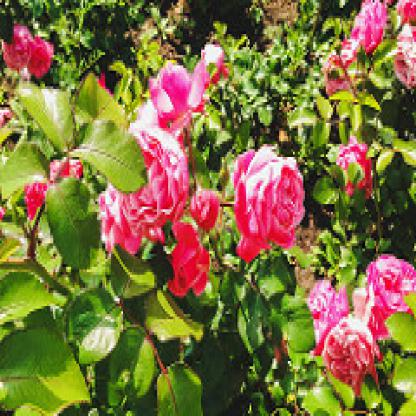Rose-Mawar: (230, 129, 306, 265), (310, 276, 388, 386), (365, 247, 415, 320)
